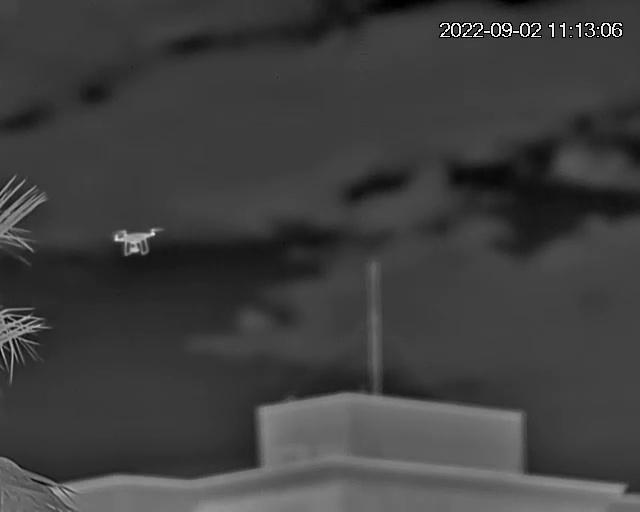DJI-Phantom: (110, 226, 169, 257)
